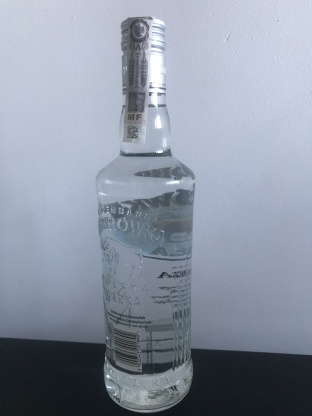nakretka: (118, 12, 169, 98)
